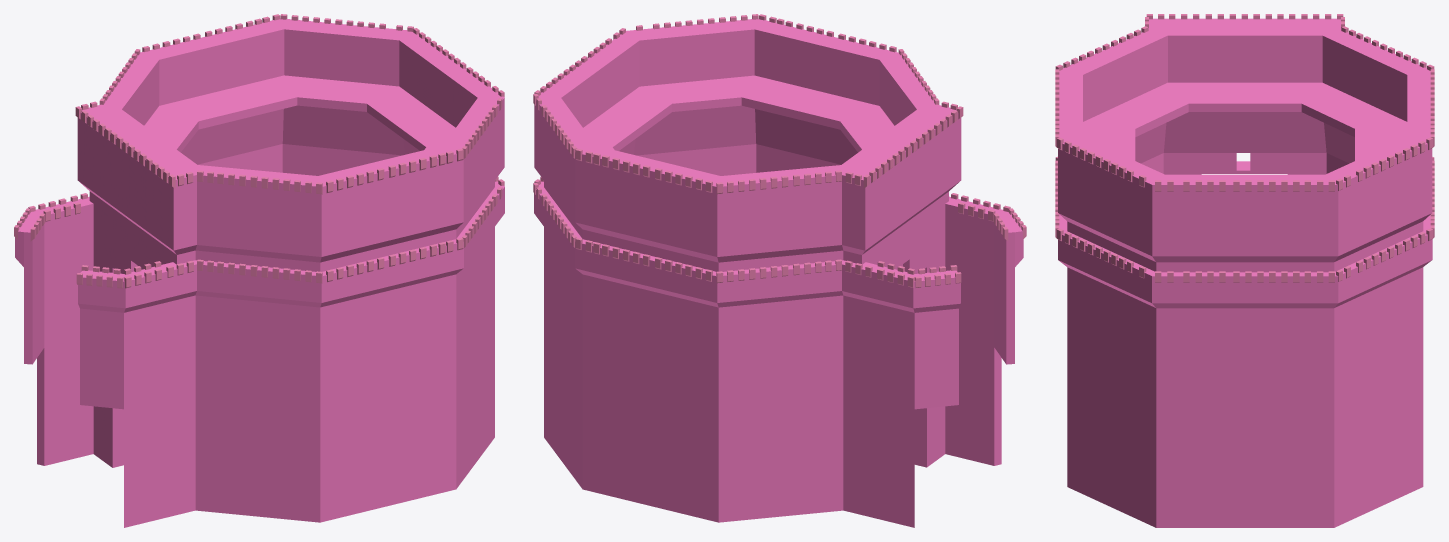
File: castle.fbx
3 views of the same model, side by side, from view 1: azimuth 30°, elevation 25°; view 2: azimuth 150°, elevation 25°; view 3: azimuth 270°, elevation 25° (orthographic). The views are drawn at different scales.
Visible parts, largest first — view 1: castle; view 2: castle; view 3: castle.
Part boxes in pixels (box(x1,y1,x2,y2)): castle: box(14, 14, 504, 527); castle: box(533, 14, 1026, 527); castle: box(1055, 14, 1434, 527).
Bounding box in the file's own units: 11854 × 9342 × 9158.
